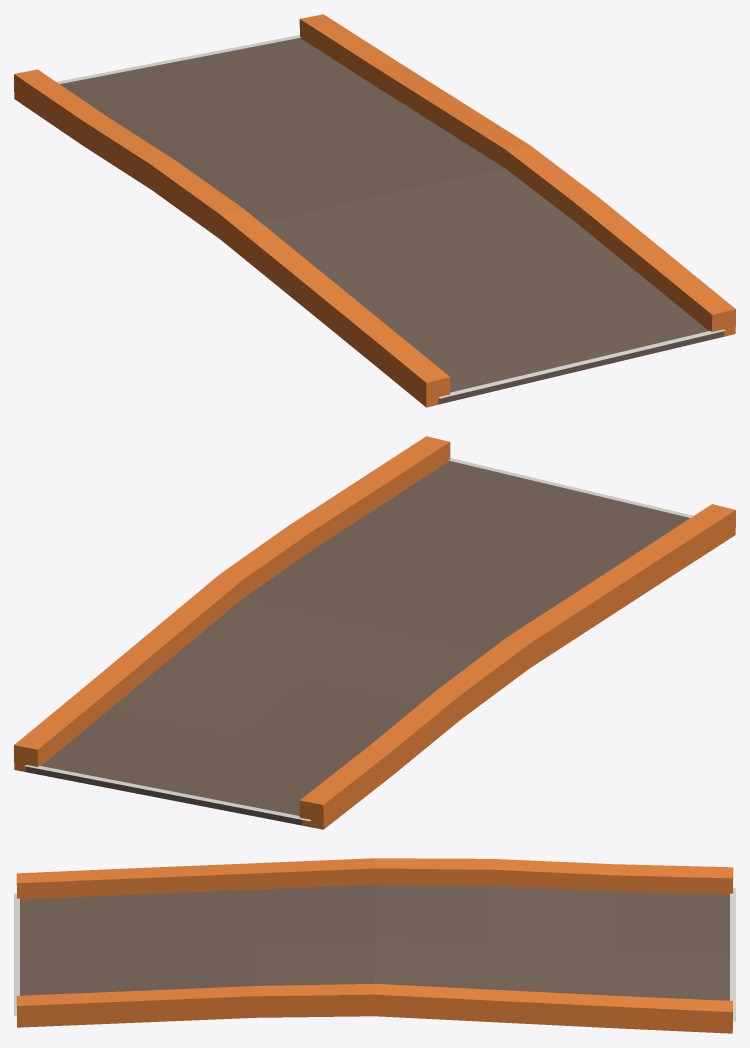
Rendered from SM_MP_Film_C_0_0.fbx.
3 renders of one model, top to bottom at view 1: azimuth 30°, elevation 25°; view 2: azimuth 150°, elevation 25°; view 3: azimuth 270°, elevation 25°, orthographic. The views are drawn at different scales.
Visible parts, largest first — view 1: SM_MP_Film_C_0_0; view 2: SM_MP_Film_C_0_0; view 3: SM_MP_Film_C_0_0.
Part boxes in pixels (<box>): SM_MP_Film_C_0_0: <box>14,14,735,407</box>; SM_MP_Film_C_0_0: <box>14,436,735,829</box>; SM_MP_Film_C_0_0: <box>14,858,735,1033</box>.
Size of what is drawn, in the model's own units: 260 by 605 by 40.98.
